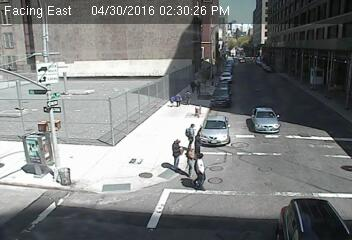neg: (236, 164, 261, 196), (208, 119, 230, 149), (41, 80, 62, 107), (286, 83, 307, 110), (55, 117, 75, 144), (274, 158, 294, 185), (99, 83, 119, 109), (224, 64, 243, 90), (47, 161, 66, 187), (185, 32, 204, 57), (302, 91, 321, 116), (124, 100, 142, 125), (17, 126, 35, 150), (115, 139, 132, 163), (311, 127, 328, 150), (260, 45, 276, 66), (138, 208, 154, 229), (82, 49, 97, 70), (246, 113, 261, 134), (292, 34, 307, 54), (227, 215, 242, 234), (278, 117, 292, 136), (214, 33, 228, 51), (125, 70, 138, 88), (107, 174, 120, 191), (51, 208, 63, 223), (308, 188, 319, 203), (132, 46, 139, 56)
pos: (162, 134, 193, 175), (186, 150, 216, 189), (176, 145, 201, 179), (181, 120, 200, 145), (180, 87, 195, 106), (167, 95, 180, 112), (192, 78, 205, 95), (172, 92, 183, 107), (186, 77, 197, 92)
